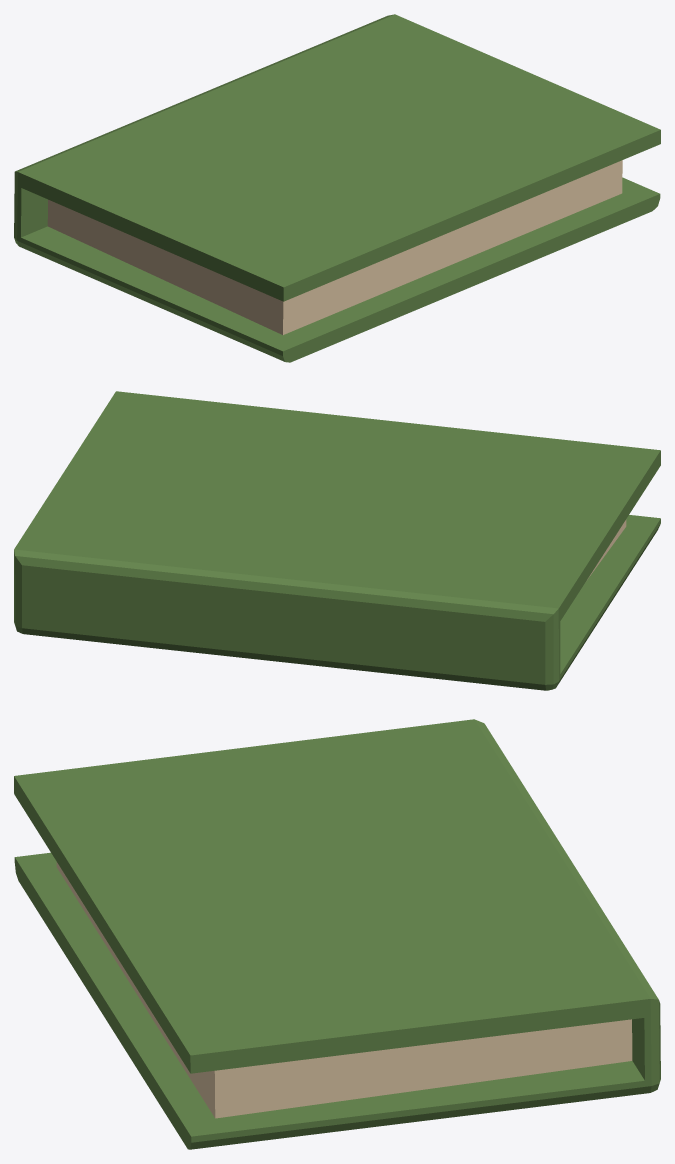
The model's file is BookGreen.fbx.
The picture shows the model from 3 angles, top to bottom: view 1: azimuth 30°, elevation 25°; view 2: azimuth 150°, elevation 25°; view 3: azimuth 270°, elevation 25°; orthographic projection. The views are drawn at different scales.
Visible parts, largest first — view 1: Cube.015; view 2: Cube.015; view 3: Cube.015.
Part boxes in pixels (box(x1,y1,x2,y2)): Cube.015: box(14, 14, 660, 362); Cube.015: box(14, 391, 660, 690); Cube.015: box(14, 719, 660, 1149).
Size of the model in its own units: 89.34 by 13.5 by 74.16.
